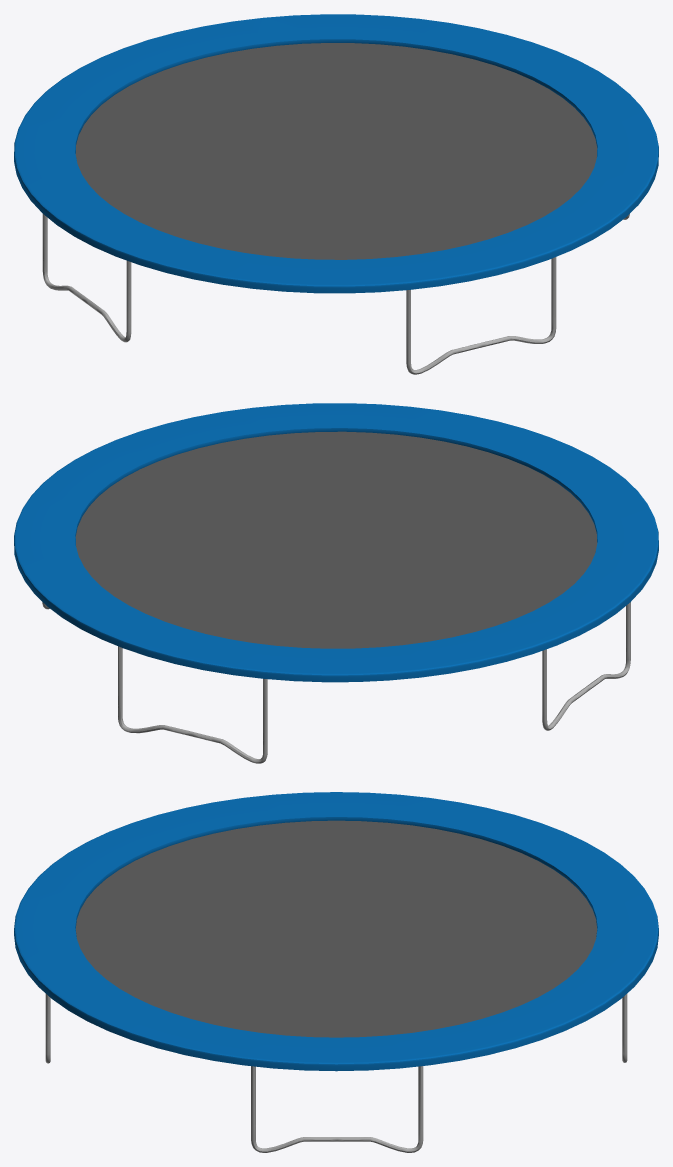
File: bounce-village-45.glb
3 views of the same model, one above another, from view 1: azimuth 30°, elevation 25°; view 2: azimuth 150°, elevation 25°; view 3: azimuth 270°, elevation 25° (orthographic).
Visible parts, largest first — view 1: piece; view 2: piece; view 3: piece.
Part boxes in pixels (x1,y1,x2,y2): piece: (14, 14, 658, 374); piece: (14, 403, 658, 763); piece: (14, 792, 658, 1152).
Size of the model in its own units: 300 by 53.21 by 300.
